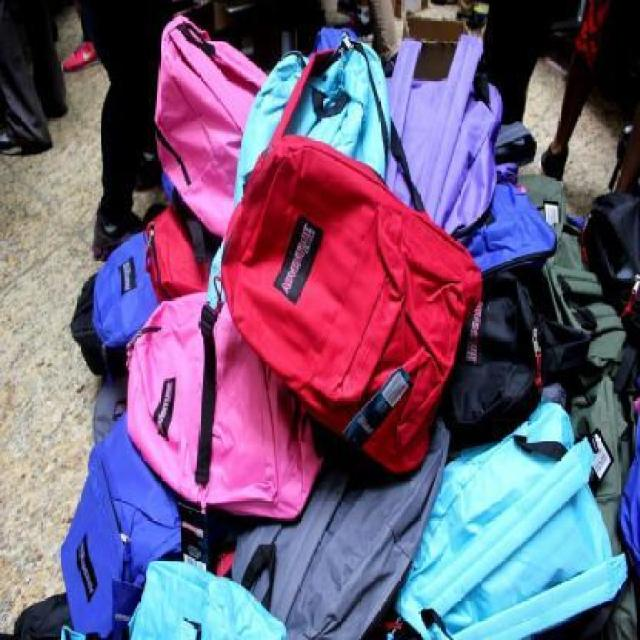backpack: (212, 129, 488, 485), (392, 397, 630, 640), (121, 282, 332, 532), (59, 403, 184, 640), (148, 9, 272, 240), (234, 34, 392, 208), (386, 34, 506, 241), (122, 554, 289, 640), (90, 223, 158, 354)
